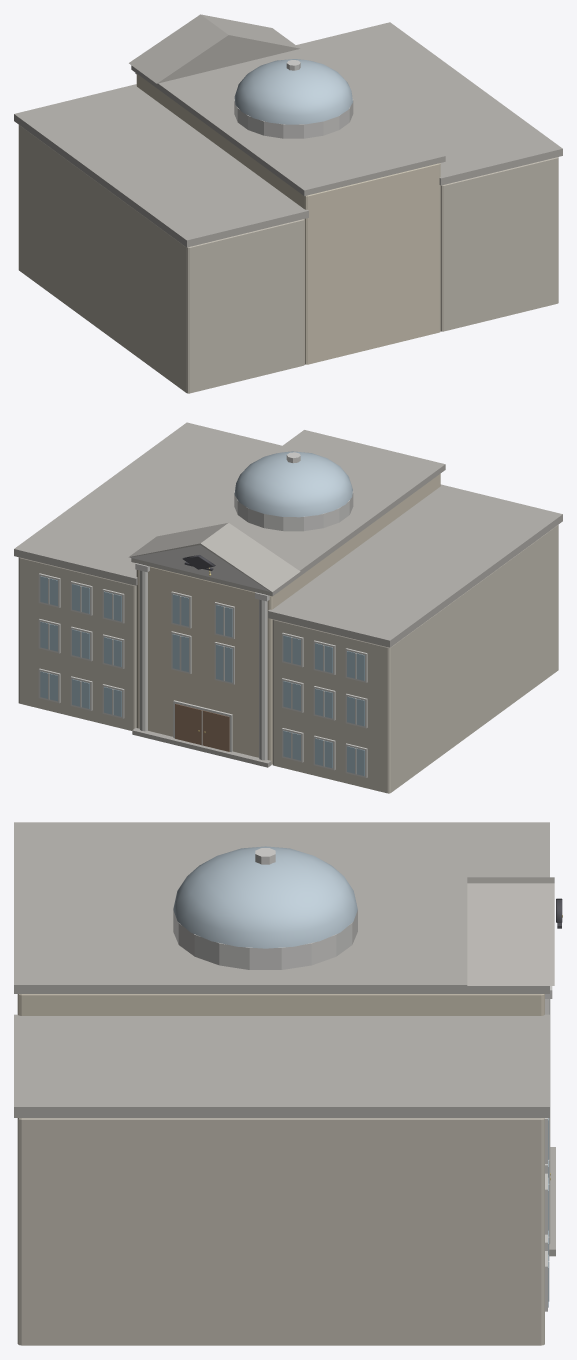
File: centro-universidade-ac5b118a.glb
The picture shows the model from 3 angles, top to bottom: view 1: azimuth 30°, elevation 25°; view 2: azimuth 150°, elevation 25°; view 3: azimuth 270°, elevation 25°; orthographic projection. The views are drawn at different scales.
Visible parts, largest first — view 1: centro_universidade_body; view 2: centro_universidade_body; view 3: centro_universidade_body.
Boxes of the visible parts, x1,y1,x2,y2 form: centro_universidade_body: (14,14,562,393); centro_universidade_body: (14,422,562,793); centro_universidade_body: (14,822,555,1345).
Size of the model in its own units: 27.7 by 16 by 22.59.
